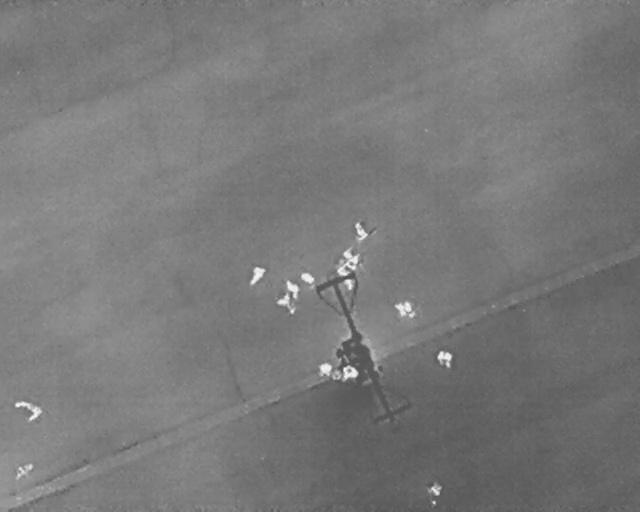Person: (10, 394, 46, 425), (391, 296, 419, 322), (335, 261, 356, 291), (245, 263, 268, 289), (342, 246, 361, 269), (427, 481, 442, 508), (274, 297, 296, 313), (436, 350, 454, 369), (355, 221, 370, 242), (284, 281, 301, 298), (317, 361, 332, 378), (343, 366, 358, 380), (302, 272, 315, 284)
